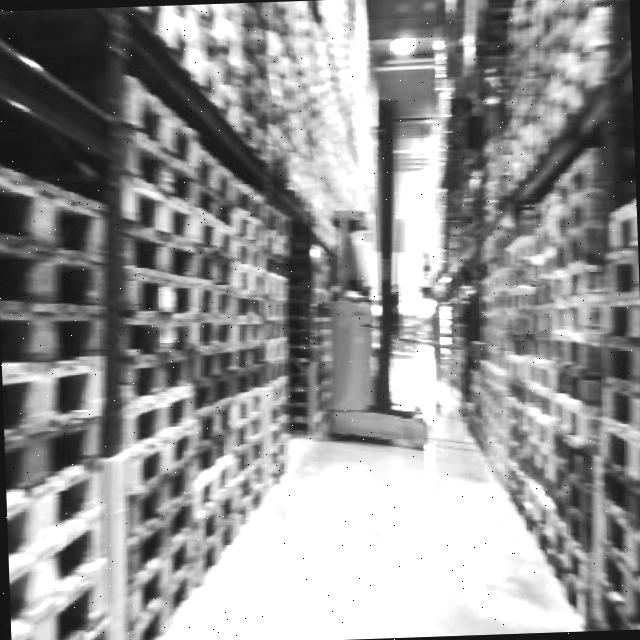ground: (108, 372, 617, 640)
pallet: (0, 1, 313, 640), (446, 0, 640, 633), (0, 7, 134, 640), (583, 178, 640, 629)
